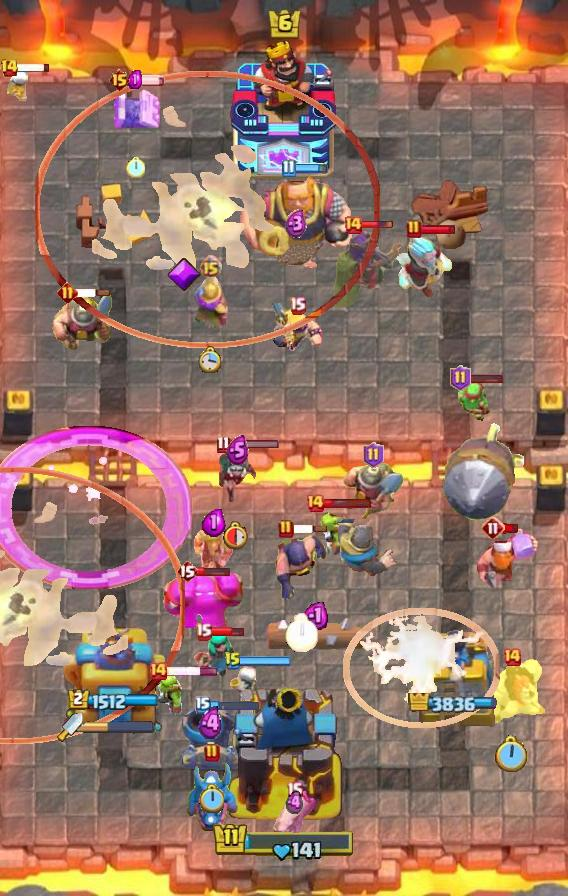bandit: (215, 450, 259, 506)
bar: (166, 666, 219, 677), (208, 700, 260, 711), (229, 439, 280, 450), (322, 498, 372, 509), (240, 656, 291, 666), (209, 625, 245, 638), (128, 74, 166, 86), (468, 372, 504, 384), (196, 565, 231, 577), (420, 224, 457, 235), (14, 62, 51, 73), (293, 163, 328, 174), (292, 524, 328, 534), (75, 288, 111, 298), (360, 220, 394, 230), (503, 523, 520, 534)
bar-level: (481, 516, 505, 540), (108, 68, 131, 92), (363, 442, 384, 468), (450, 365, 471, 391), (199, 255, 222, 278), (176, 559, 198, 583), (57, 282, 78, 303), (148, 661, 168, 681), (502, 647, 522, 667), (305, 493, 325, 513), (343, 215, 363, 235), (0, 58, 19, 78), (224, 651, 242, 671), (286, 781, 303, 800), (195, 622, 212, 641), (289, 296, 306, 315), (204, 743, 220, 763), (278, 519, 294, 539), (406, 219, 422, 239), (195, 696, 211, 714), (216, 435, 231, 454), (281, 159, 296, 178)
barbarian-evolution: (270, 303, 324, 353)
clock: (495, 735, 529, 775), (285, 613, 318, 652), (223, 520, 251, 550), (199, 784, 224, 813), (198, 346, 222, 373), (126, 156, 145, 178)
dagger-duchess-tower: (62, 615, 167, 731)
dagger-duchess-tower-bar: (83, 720, 155, 734)
electro-dragon: (184, 761, 240, 835)
elixir: (198, 706, 224, 741), (302, 600, 328, 630), (202, 507, 226, 537), (226, 435, 249, 465), (285, 209, 307, 239), (286, 790, 303, 816), (128, 70, 142, 89)
evolution-symbol: (166, 257, 202, 293)
executioner: (274, 533, 328, 603)
goblin: (192, 525, 236, 575), (313, 508, 349, 558), (155, 671, 187, 719)
hog: (268, 788, 320, 842)
ice-wizard: (396, 234, 454, 300)
king-tower: (223, 680, 345, 826), (230, 41, 338, 181)
king-tower-bar: (212, 821, 356, 863)
knight: (337, 519, 398, 576)
lumberjack: (475, 528, 539, 592)
miner: (340, 461, 406, 523), (52, 291, 114, 355)
mortar: (181, 706, 241, 770)
musketeer: (192, 272, 228, 328)
queen-tower: (403, 621, 503, 731)
rascal-girl: (193, 630, 237, 678)
skeleton: (228, 666, 260, 702), (5, 71, 31, 103)
spear-goblin: (454, 383, 492, 421)
tesla: (109, 82, 161, 132)
the-log: (265, 614, 365, 656)
tower-bar: (68, 688, 160, 712), (408, 693, 498, 713)
